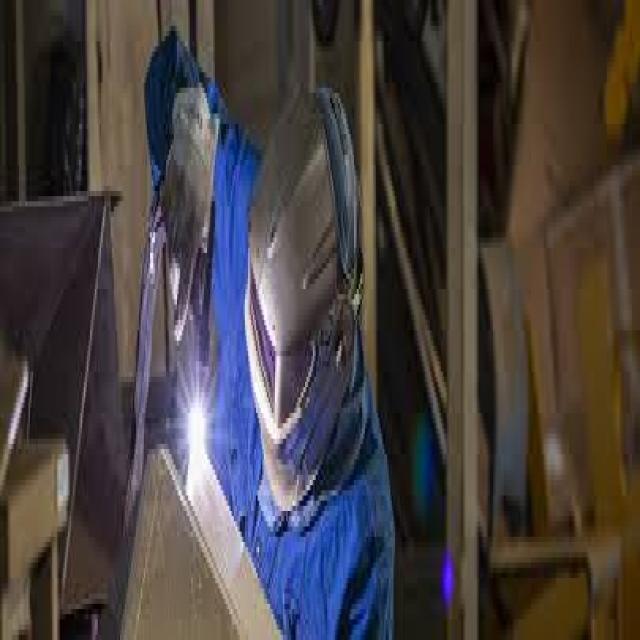welding: (185, 394, 208, 477)
